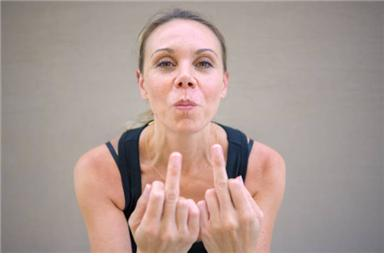insulting_gesture: (199, 143, 265, 256), (129, 151, 200, 256)
